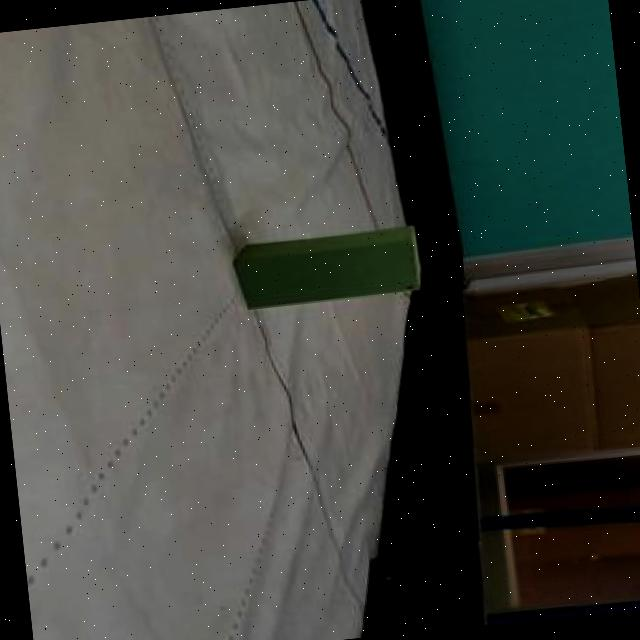greenbox: (229, 221, 424, 312)
